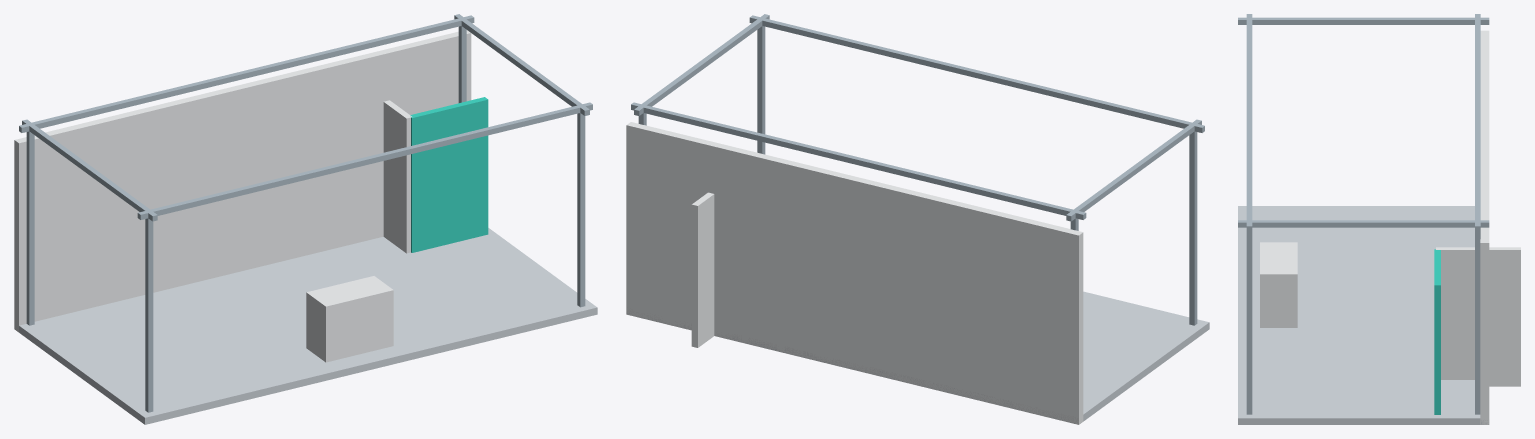
3 renders of one model, left to right at view 1: azimuth 30°, elevation 25°; view 2: azimuth 150°, elevation 25°; view 3: azimuth 270°, elevation 25°, orthographic. The views are drawn at different scales.
Parts seen in each view (by area): view 1: Exhibition Booth Concept; view 2: Exhibition Booth Concept; view 3: Exhibition Booth Concept.
Boxes of the visible parts, bbox=[...] form: Exhibition Booth Concept: bbox=[14, 14, 597, 424]; Exhibition Booth Concept: bbox=[626, 14, 1209, 424]; Exhibition Booth Concept: bbox=[1238, 14, 1520, 424].
Bounding box in the file's own units: 8 × 3.49 × 4.51.
